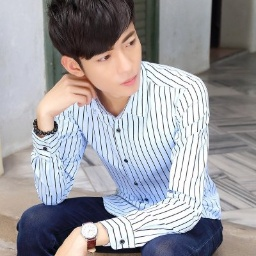face: (46, 1, 143, 100)
